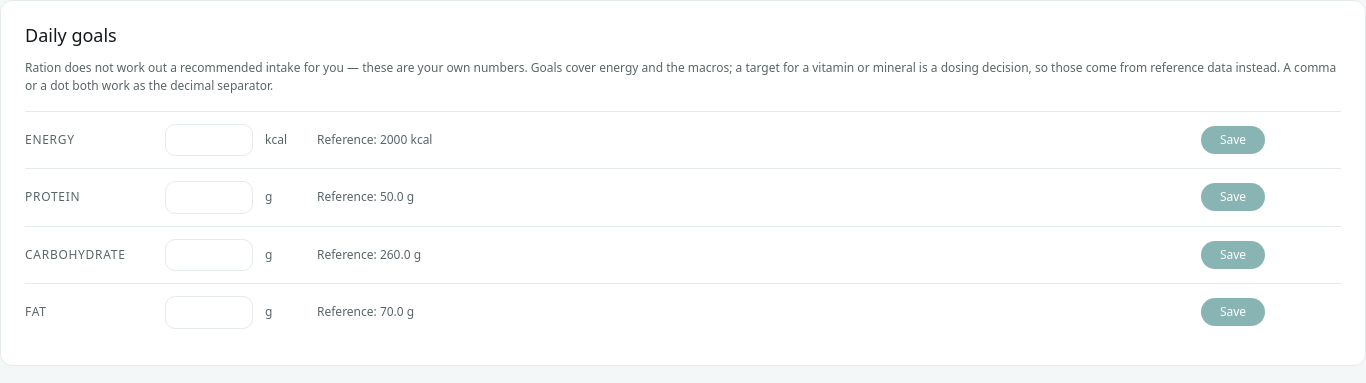
Test: GoalForm › refuses text that is not a number and says so
Type "2200 kcal" into the field labelled "Energy" at (209, 140), box [165,124,253,156]
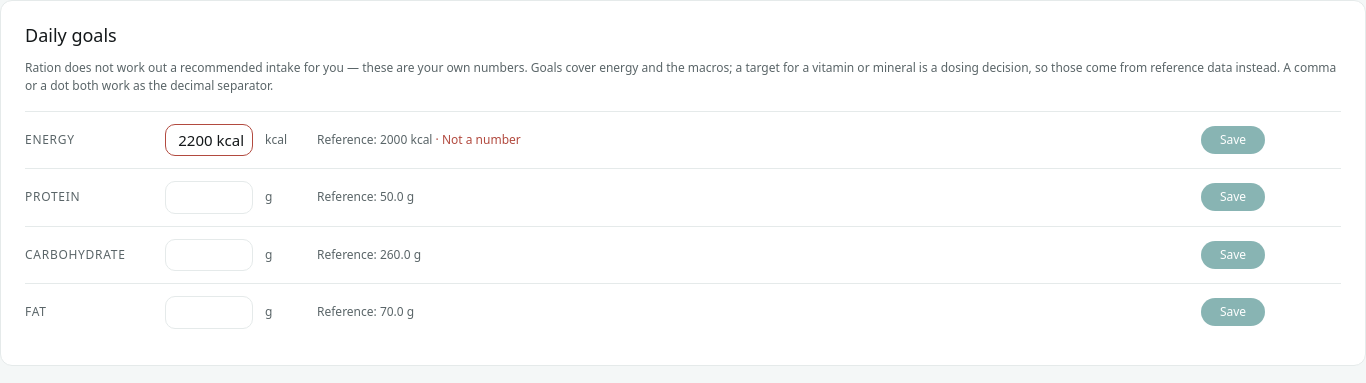
Expected: the button "Save" in the row of "· Not a number" is disabled, [1201,126,1265,154]
Result: the element showing "Energy kcal Reference: 2000 kcal · Not a number Save" is shown at [25,111,1341,168]
